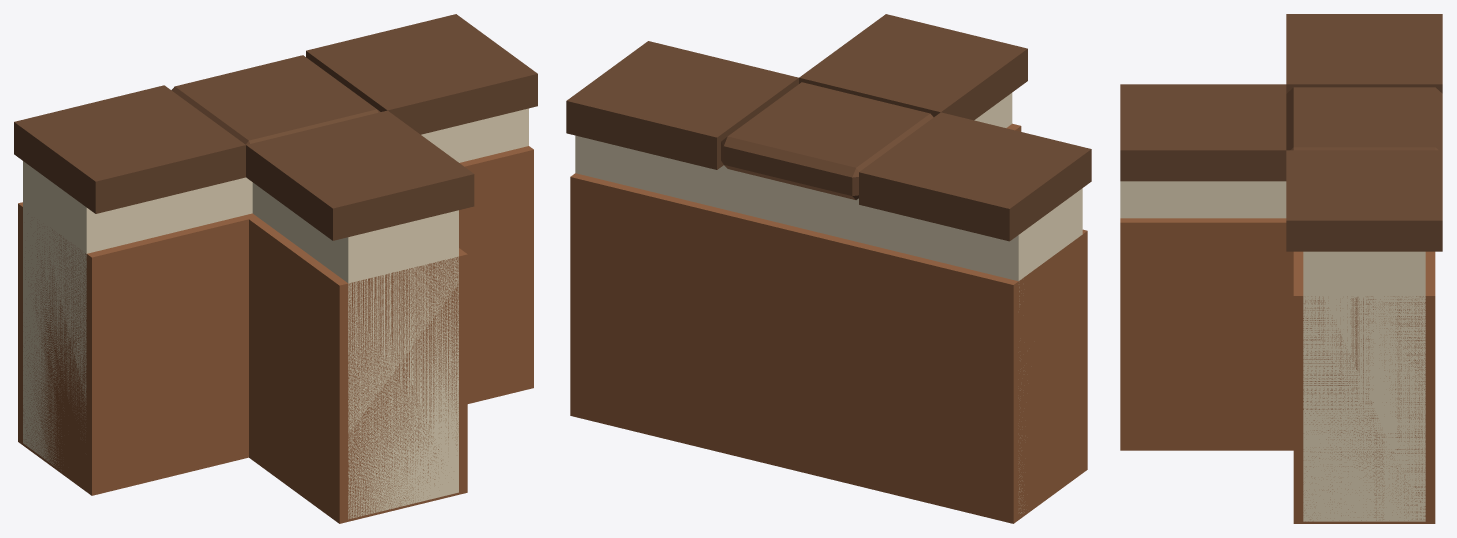
File: wall_low_t.glb
3 renders of one model, left to right at view 1: azimuth 30°, elevation 25°; view 2: azimuth 150°, elevation 25°; view 3: azimuth 270°, elevation 25°, orthographic. The views are drawn at different scales.
Parts seen in each view (by area): view 1: wall_low_t; view 2: wall_low_t; view 3: wall_low_t.
Boxes of the visible parts, bbox=[...] form: wall_low_t: bbox=[14, 14, 537, 523]; wall_low_t: bbox=[566, 14, 1091, 523]; wall_low_t: bbox=[1120, 14, 1442, 523].
Bounding box in the file's own units: 1 × 0.685 × 0.66.
